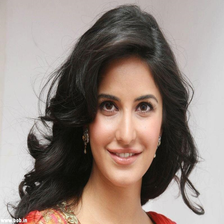no_mask: (91, 64, 162, 188)
